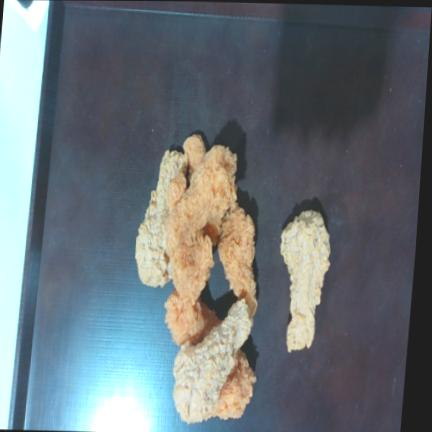chicken: (173, 300, 252, 422), (167, 145, 236, 249), (135, 149, 187, 286), (280, 210, 329, 351), (217, 203, 257, 317), (170, 231, 213, 304), (164, 289, 219, 344)
